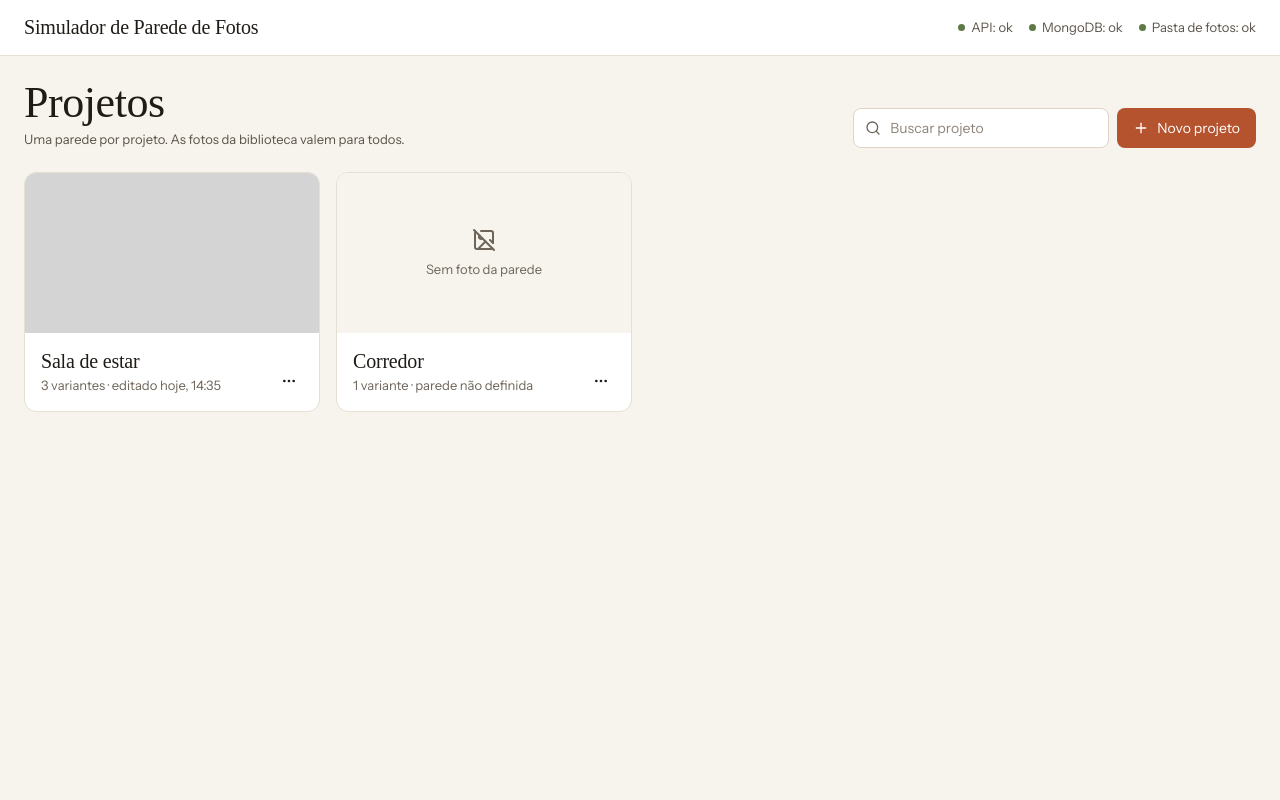
Excluir (menu ⋯, RN-17) › pede confirmação, exclui e remove o card
The image size is (1280, 800).
Expected: the heading "Sala de estar" is shown, [41,350,140,372]
Step 1. Press Enter in the button named "Mais ações de Sala de estar", box [271,363,307,399]
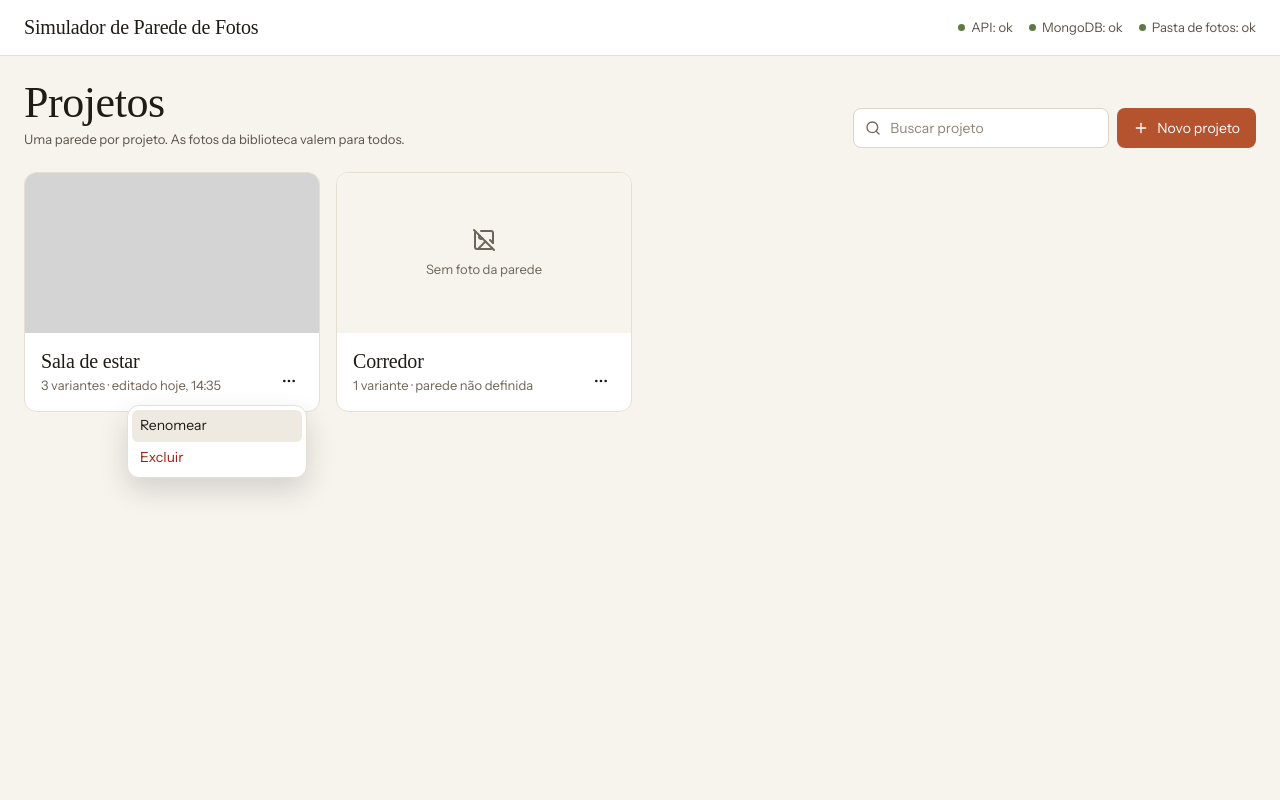
Step 2. Click the menu item "Excluir" → (162, 457), box [140,448,184,466]
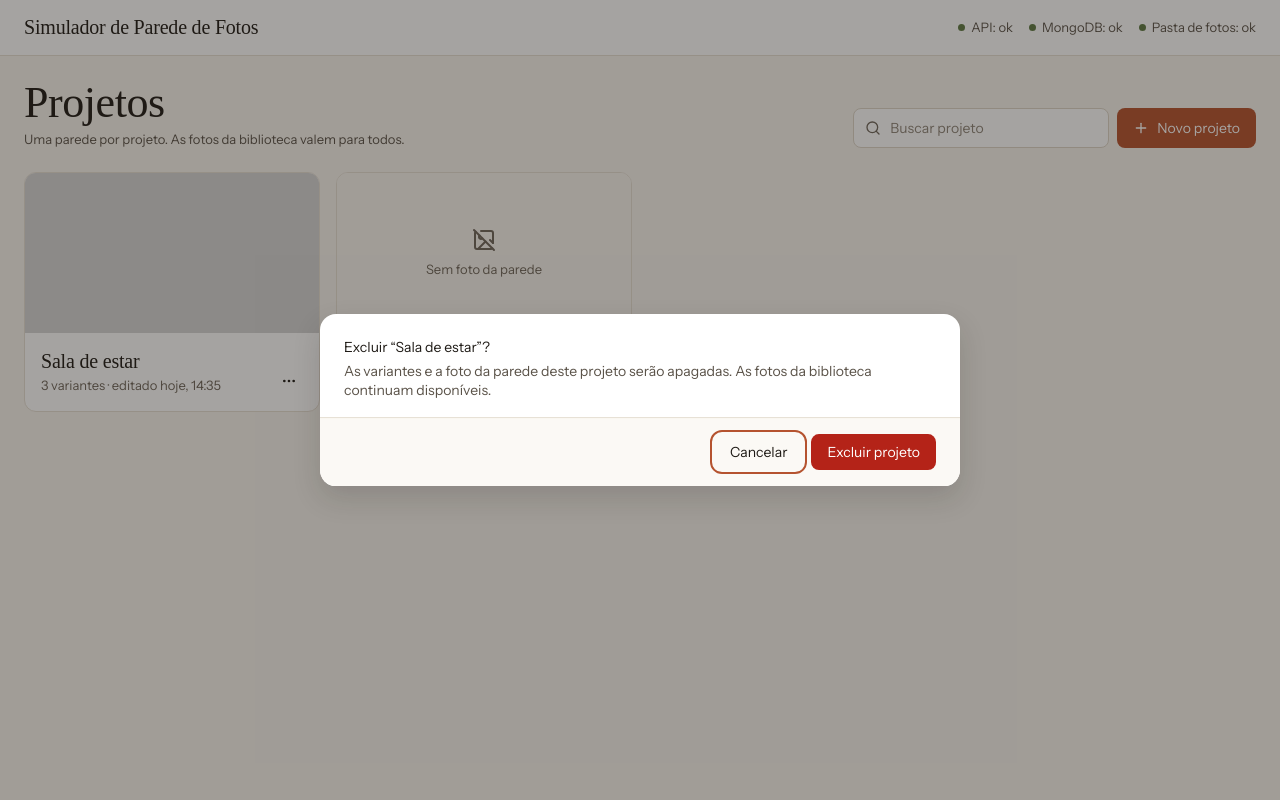
Step 3. Click the button "Excluir projeto" → (874, 452), box [811,434,936,470]
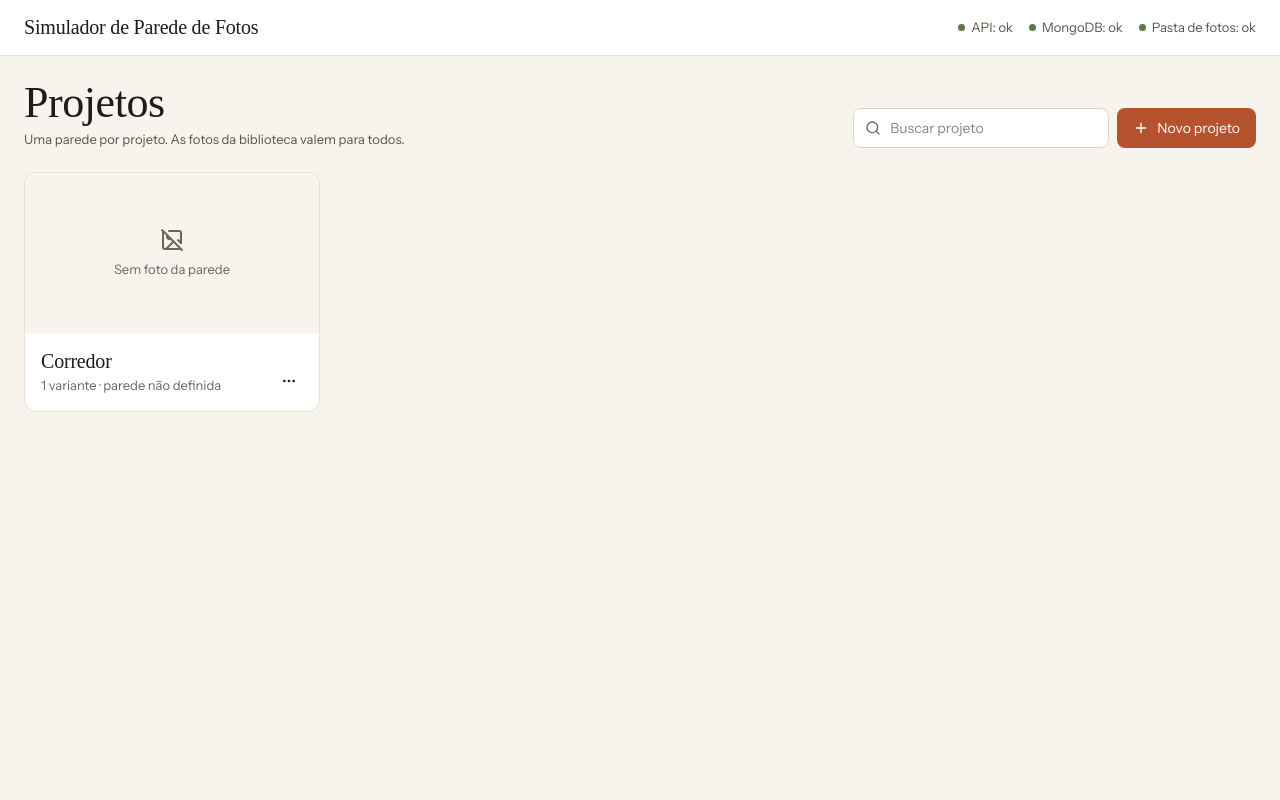
Expected: the heading "Corredor" is shown, [41,350,112,372]
Result: the link "Sala de estar" is gone
